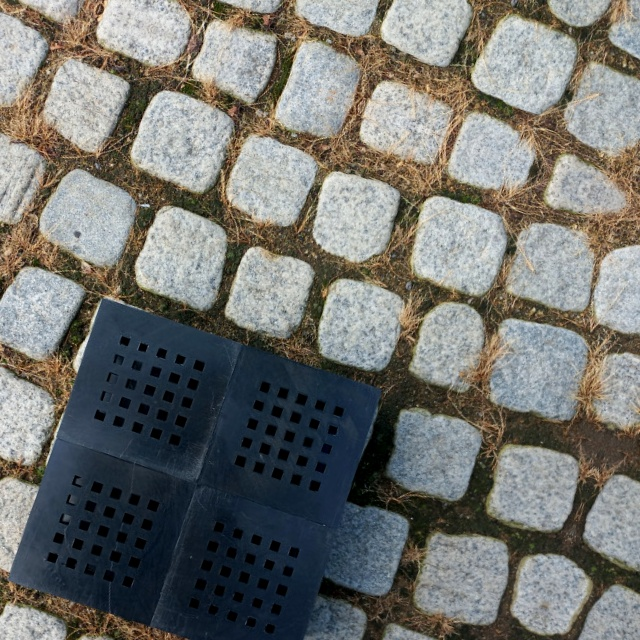pallet: (1, 278, 390, 638)
